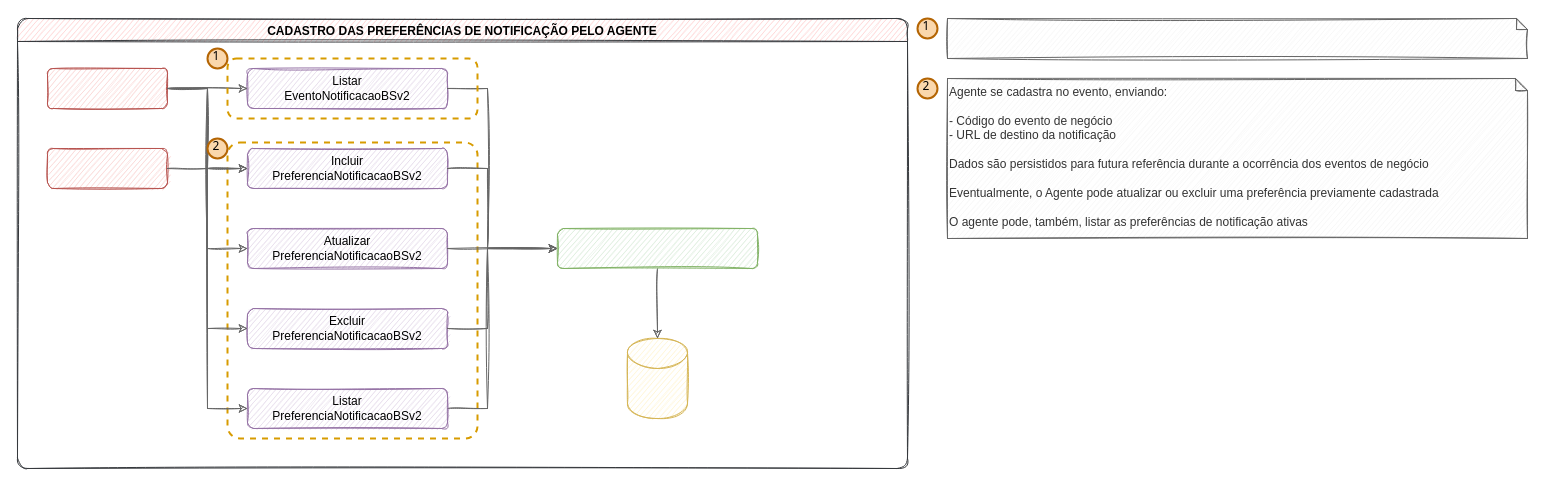
This 1545x486 diagram has some shape labels left out. Here are the shapes that lost their labels. From the top down, the centre of each, then its label:
At (x=1237, y=38): "Agente consulta os eventos de negócio disponíveis para eventual notificação".
At (x=107, y=88): "BACKOFFICE AGENTE".
At (x=107, y=168): "SOAPUI POSTMAN CURL, etc".
At (x=657, y=248): "AVISOS".
